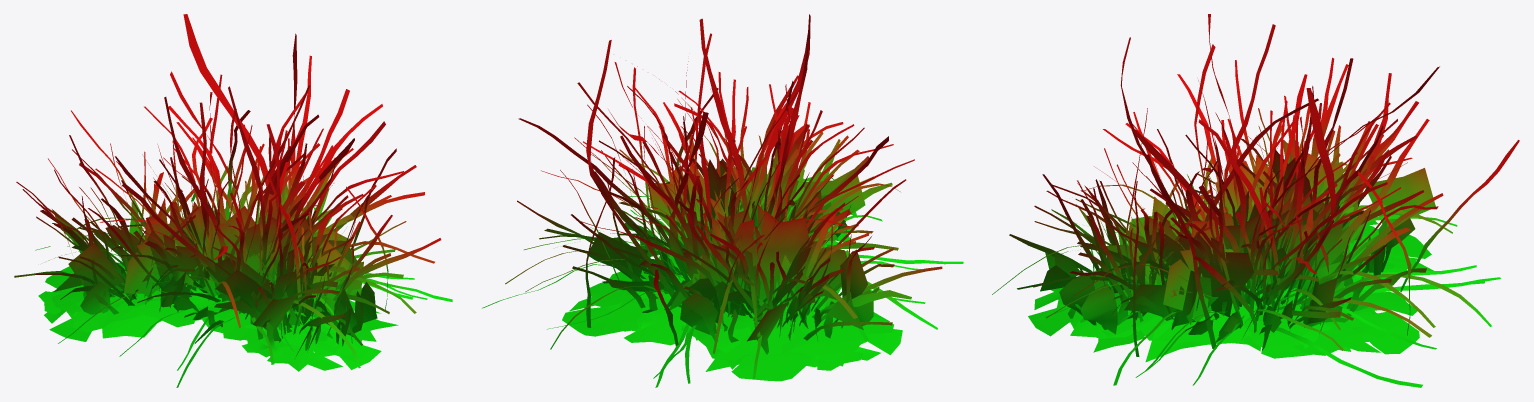
The model's file is Var4_LOD1.fbx.
The picture shows the model from 3 angles, left to right: view 1: azimuth 30°, elevation 25°; view 2: azimuth 150°, elevation 25°; view 3: azimuth 270°, elevation 25°; orthographic projection. The views are drawn at different scales.
Visible parts, largest first — view 1: _jajy_Var4_LOD1; view 2: _jajy_Var4_LOD1; view 3: _jajy_Var4_LOD1.
Boxes of the visible parts, bbox=[...] form: _jajy_Var4_LOD1: bbox=[14, 14, 452, 387]; _jajy_Var4_LOD1: bbox=[482, 14, 963, 387]; _jajy_Var4_LOD1: bbox=[992, 14, 1519, 387].
Size of the model in its own units: 106 by 66.72 by 115.
